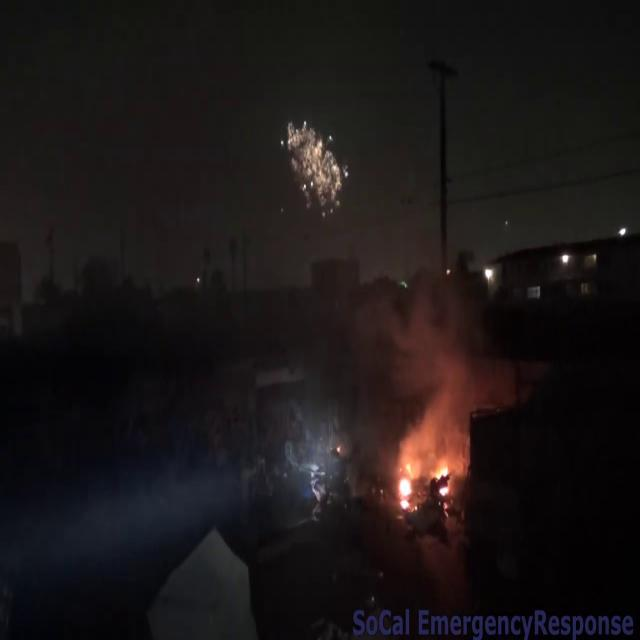Fire: (396, 444, 456, 506)
Smoke: (366, 257, 509, 416)
